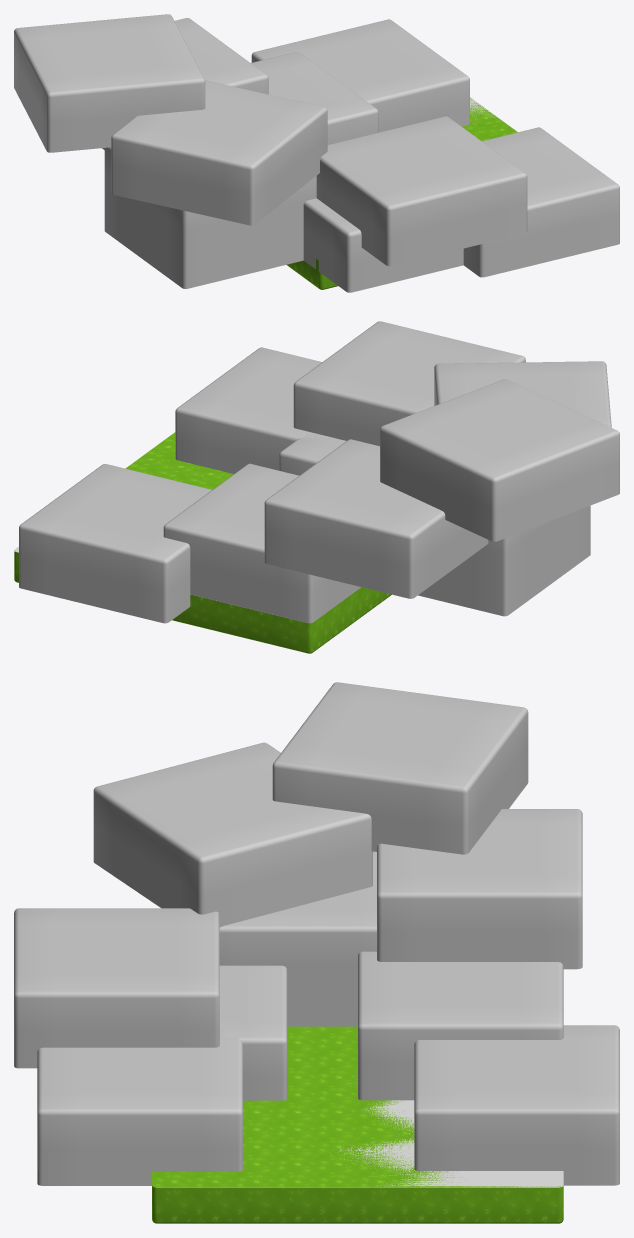
Rendered from MainMenuLevel.fbx.
The picture shows the model from 3 angles, top to bottom: view 1: azimuth 30°, elevation 25°; view 2: azimuth 150°, elevation 25°; view 3: azimuth 270°, elevation 25°; orthographic projection. The views are drawn at different scales.
Parts seen in each view (by area): view 1: Cave Closed End.034; view 2: Cave Closed End.034; view 3: Cave Closed End.034, Decal.002.
Boxes of the visible parts, x1=… form: Cave Closed End.034: x1=14, y1=14, x2=619, y2=292; Cave Closed End.034: x1=14, y1=321, x2=619, y2=653; Cave Closed End.034: x1=14, y1=682, x2=619, y2=1223; Decal.002: x1=156, y1=1100, x2=563, y2=1187.
Size of the model in its own units: 3430 by 1321 by 2946.
